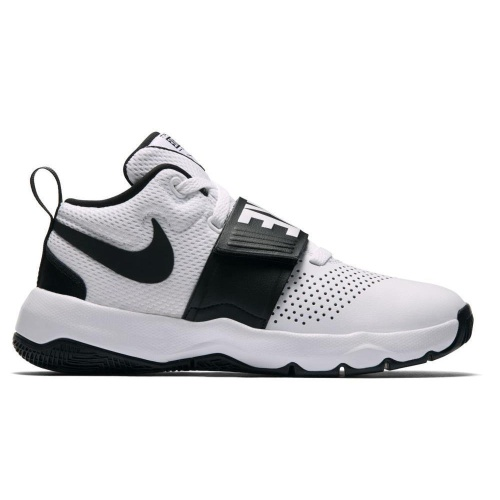nike: (58, 214, 177, 288)
